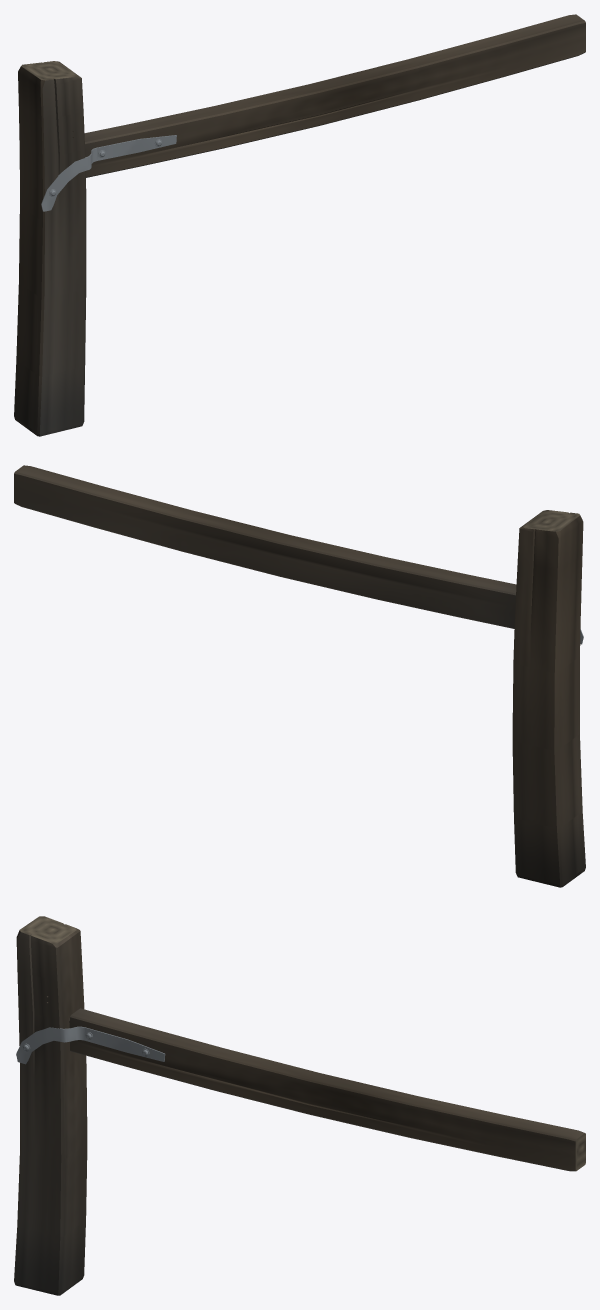
Rendered from rural_fence_post_01_r02.glb.
3 renders of one model, top to bottom at view 1: azimuth 30°, elevation 25°; view 2: azimuth 150°, elevation 25°; view 3: azimuth 330°, elevation 25°, orthographic.
Visible parts, largest first — view 1: rural_fence_post_01_wood, rural_fence_post_01_bracket; view 2: rural_fence_post_01_wood; view 3: rural_fence_post_01_wood, rural_fence_post_01_bracket.
Boxes of the visible parts, bbox=[...] form: rural_fence_post_01_wood: bbox=[14, 14, 585, 436]; rural_fence_post_01_bracket: bbox=[41, 135, 176, 211]; rural_fence_post_01_wood: bbox=[14, 465, 585, 887]; rural_fence_post_01_wood: bbox=[14, 916, 585, 1295]; rural_fence_post_01_bracket: bbox=[16, 1026, 165, 1064].
Bounding box in the file's own units: 1.96 × 1.2 × 0.1666.
2 materials, 2 textured.
